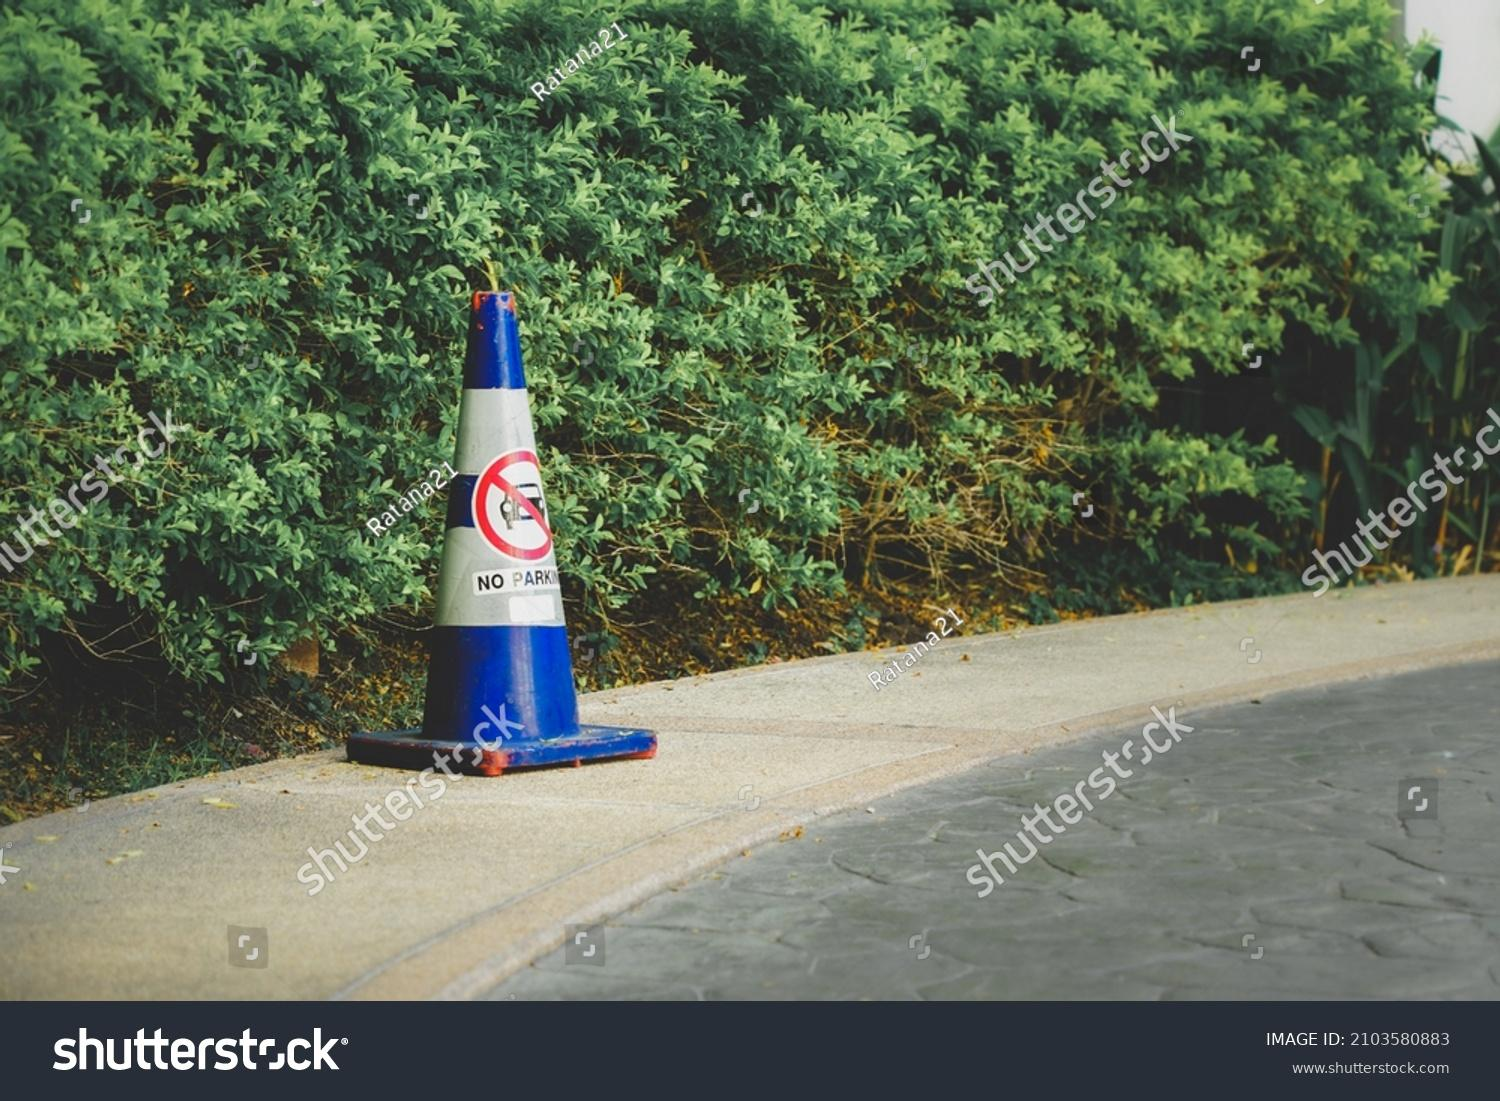No Parking: (440, 425, 575, 598)
